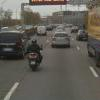Motorcycle: (23, 35, 47, 77)
